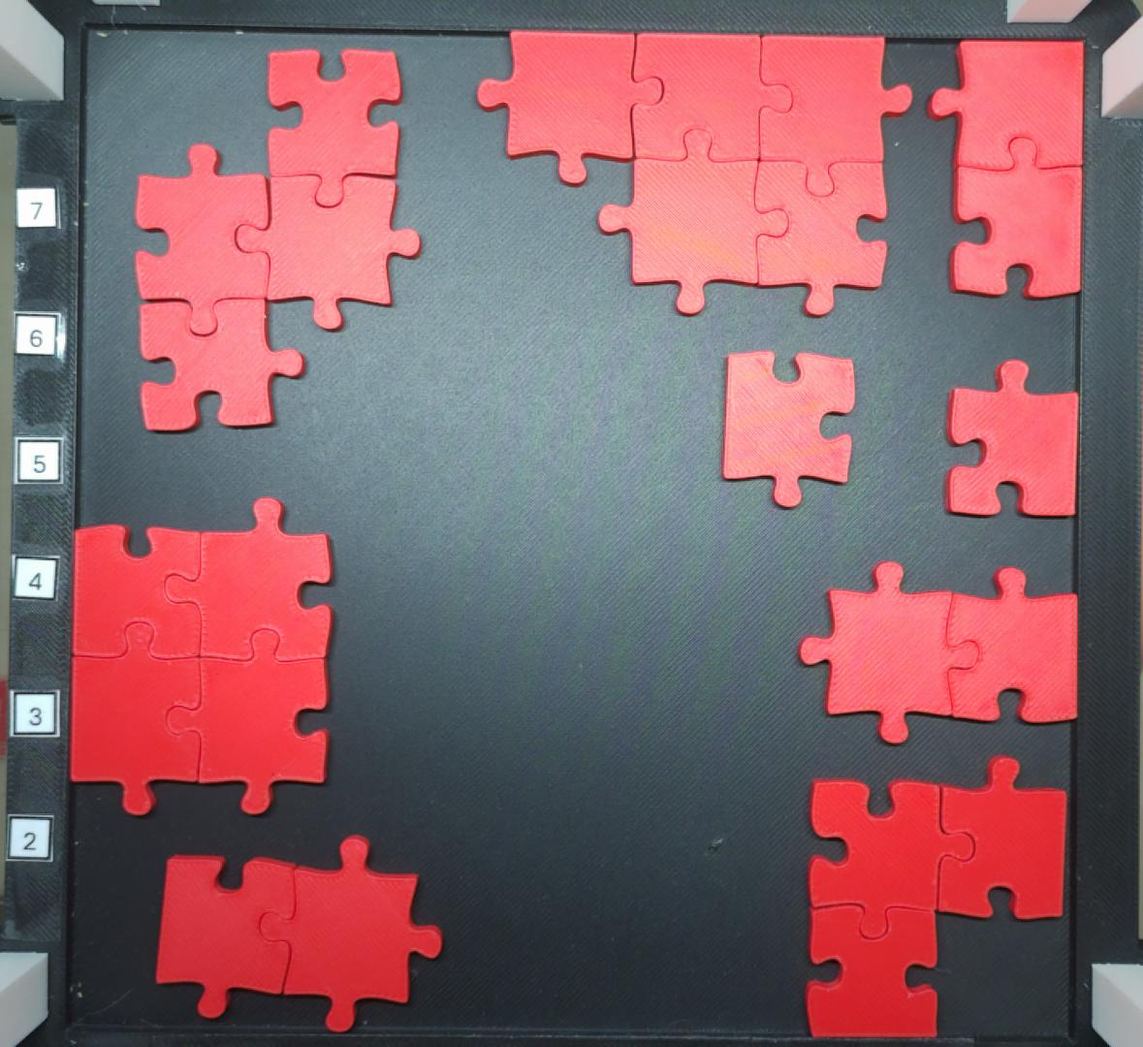p_1: (942, 358, 1084, 520), (723, 350, 859, 506)
p_2: (151, 834, 445, 1032), (798, 561, 1080, 738), (925, 39, 1085, 298)
p_3: (806, 755, 1070, 1039)
p_4: (137, 48, 424, 431), (66, 495, 338, 818)
p_m: (476, 30, 912, 316)
